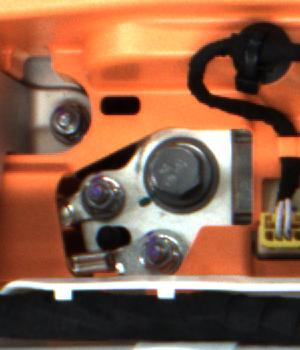nut_b: (141, 134, 223, 214)
screw_s: (131, 224, 175, 274), (44, 102, 84, 140), (79, 174, 116, 215)
